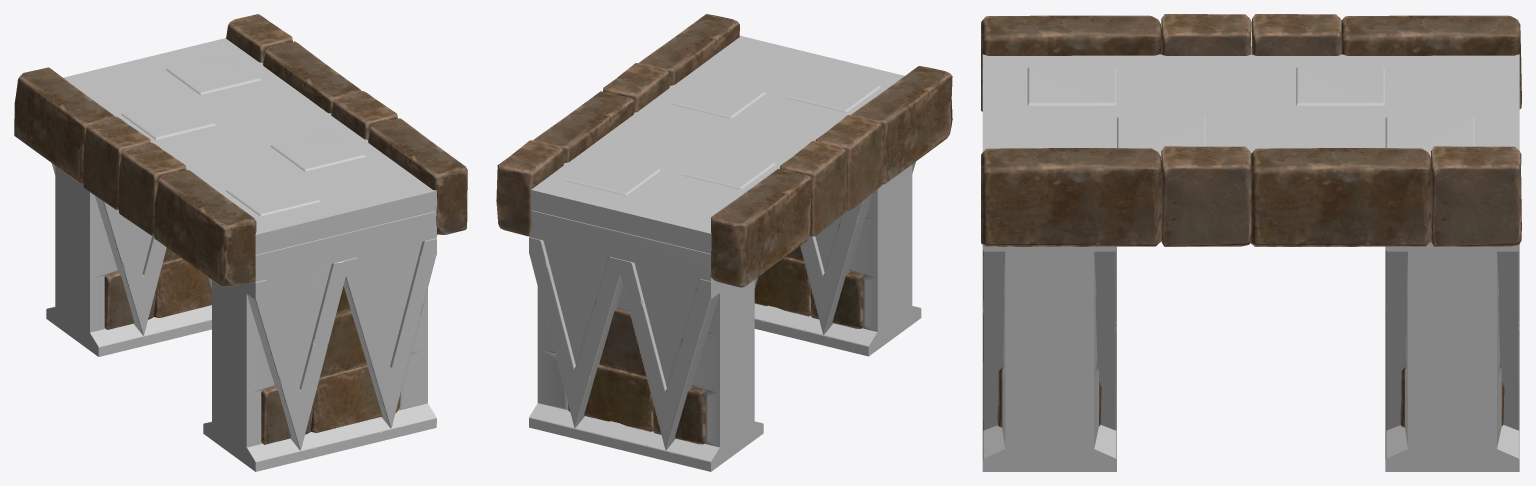
3 views of the same model, side by side, from view 1: azimuth 30°, elevation 25°; view 2: azimuth 150°, elevation 25°; view 3: azimuth 270°, elevation 25° (orthographic). The views are drawn at different scales.
Parts seen in each view (by area): view 1: SM_DK_Bridge_8m_01v1_LOD0; view 2: SM_DK_Bridge_8m_01v1_LOD0; view 3: SM_DK_Bridge_8m_01v1_LOD0.
Part boxes in pixels (x1=…): SM_DK_Bridge_8m_01v1_LOD0: x1=14, y1=14, x2=467, y2=471; SM_DK_Bridge_8m_01v1_LOD0: x1=496, y1=14, x2=952, y2=471; SM_DK_Bridge_8m_01v1_LOD0: x1=981, y1=14, x2=1521, y2=471.
Size of the model in its own units: 5.47 by 5.36 by 8.06.
